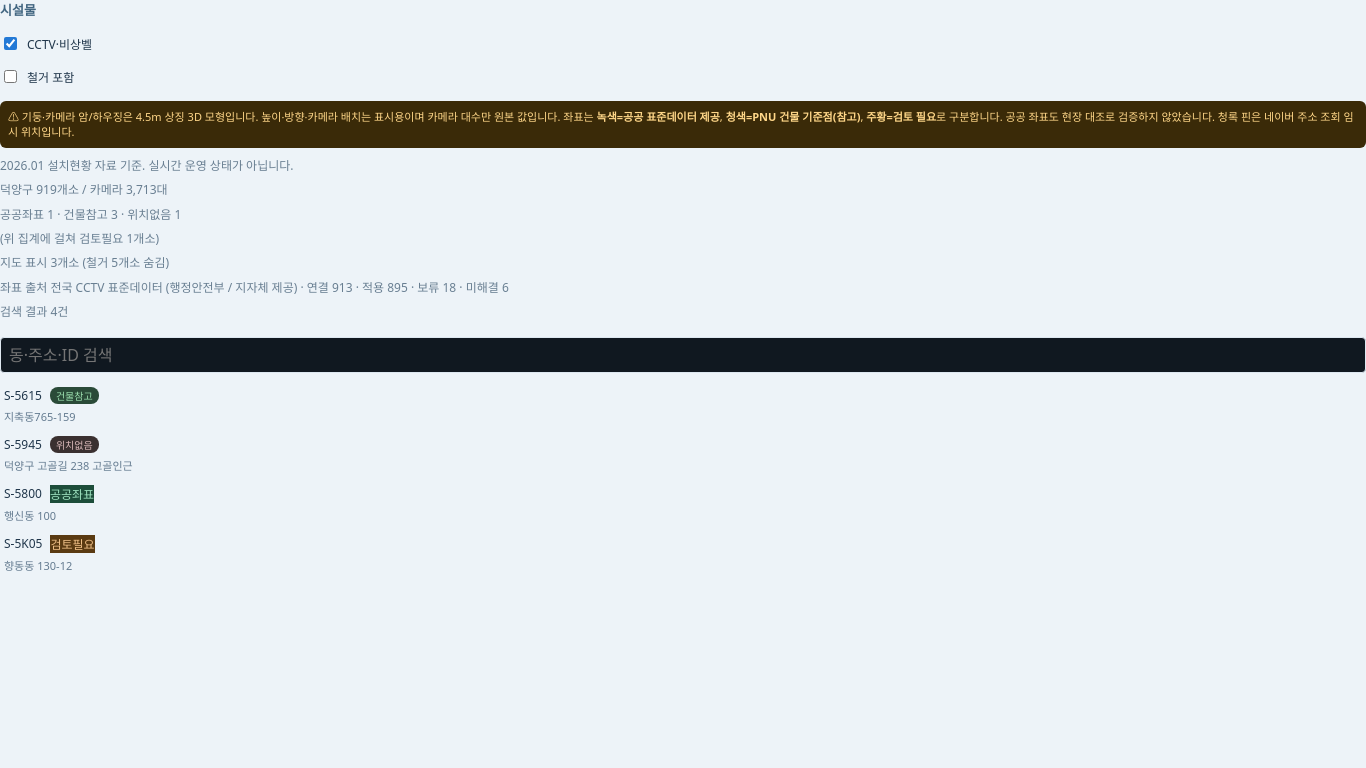
Test: FacilitiesPanel › selects a site and shows symbolic height, no direction, 철거표시없음
Click the button "S-5615 건물참고 지축동765-159" at (23, 395), box [0, 380, 1365, 430]
(page scrolled)
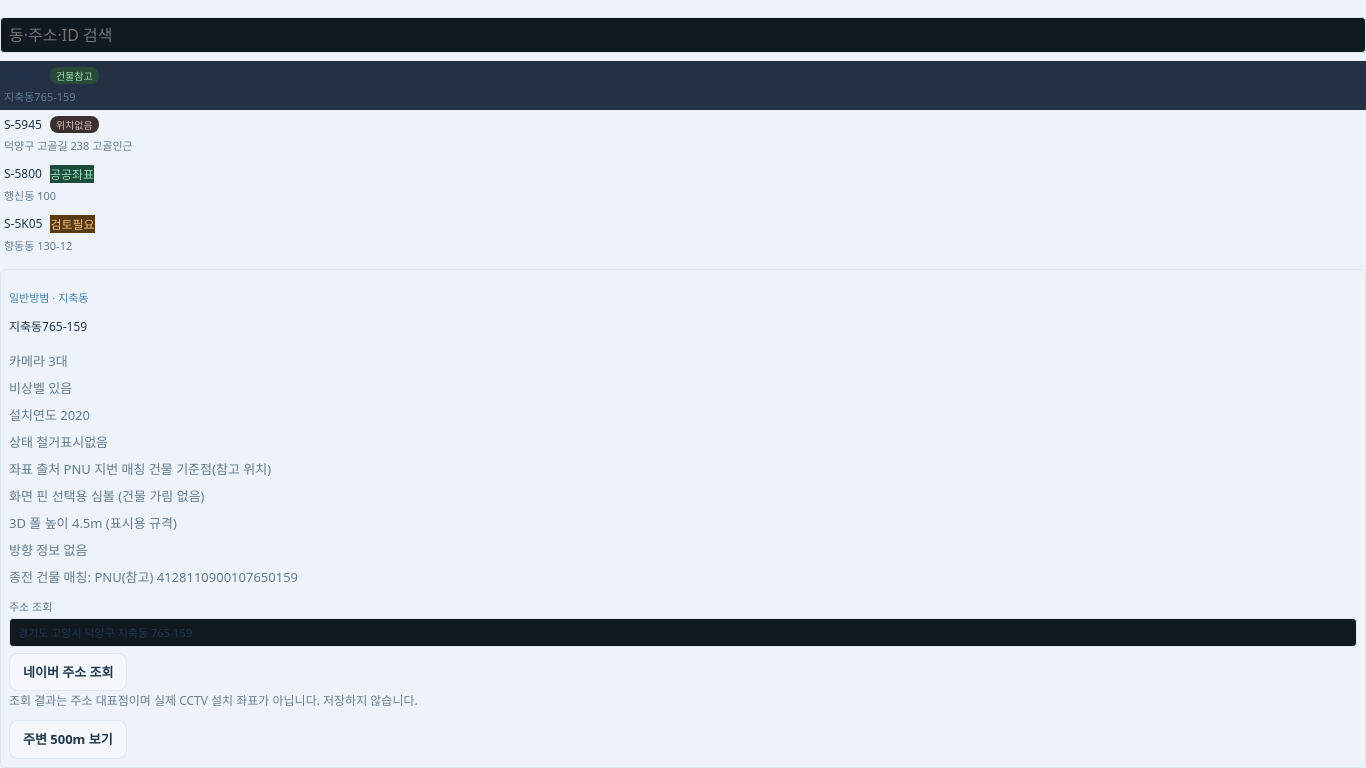
Expected: the element with test id "cctv-detail" shows "상태 철거표시없음"
Expected: the element with test id "cctv-detail" shows "3D 폴 높이 4.5m"
Expected: the element with test id "cctv-detail" shows "방향 정보 없음", [9, 540, 88, 558]
